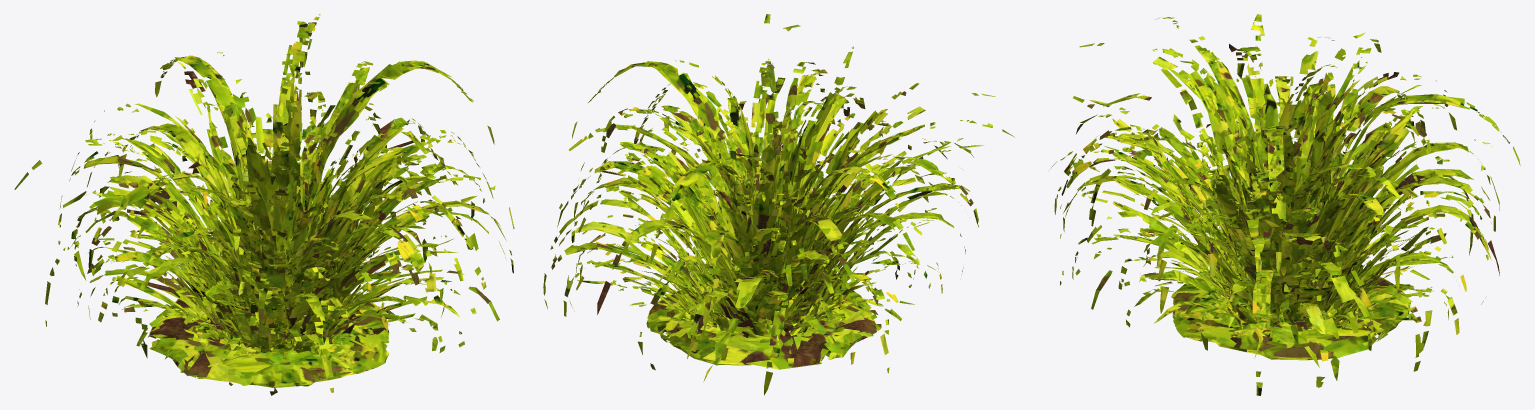
The model's file is veg_ground_grass_01.obj.
3 views of the same model, side by side, from view 1: azimuth 30°, elevation 25°; view 2: azimuth 150°, elevation 25°; view 3: azimuth 270°, elevation 25° (orthographic). The views are drawn at different scales.
Visible parts, largest first — view 1: veg_ground_grass_01; view 2: veg_ground_grass_01; view 3: veg_ground_grass_01.
Part boxes in pixels (<box>): veg_ground_grass_01: <box>14,14,514,395</box>; veg_ground_grass_01: <box>543,14,1014,395</box>; veg_ground_grass_01: <box>1051,14,1520,395</box>.
Bounding box in the file's own units: 0.4603 × 0.29 × 0.45.
Materials: 1 (1 with a texture image).
